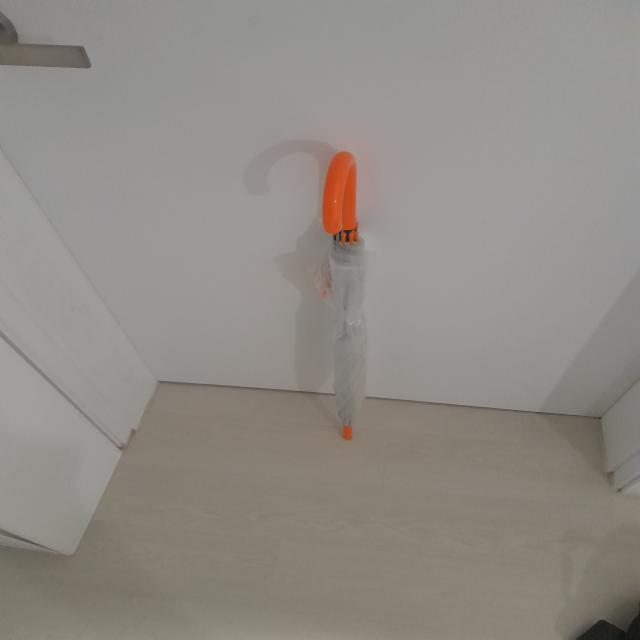umbrella: (317, 156, 373, 441)
